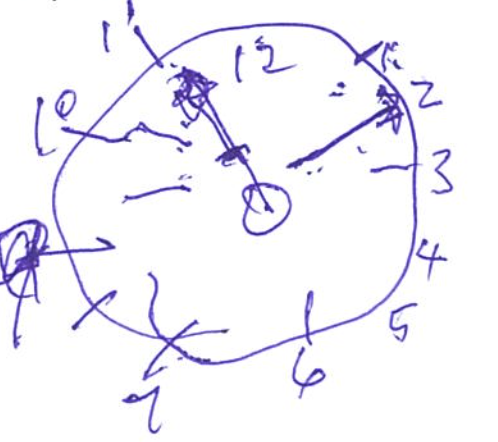1: (380, 36, 392, 75)
10: (29, 87, 84, 150)
11: (95, 0, 136, 52)
12: (233, 39, 295, 84)
2: (410, 75, 444, 110)
3: (429, 146, 453, 198)
4: (415, 235, 448, 283)
5: (387, 300, 419, 344)
6: (291, 345, 327, 390)
7: (123, 387, 162, 435)
9: (1, 214, 51, 353)
contour: (49, 21, 423, 365)
hand: (171, 67, 402, 237)
top_left_arrow: (178, 67, 272, 214)
top_right_arrow: (283, 96, 402, 169)
